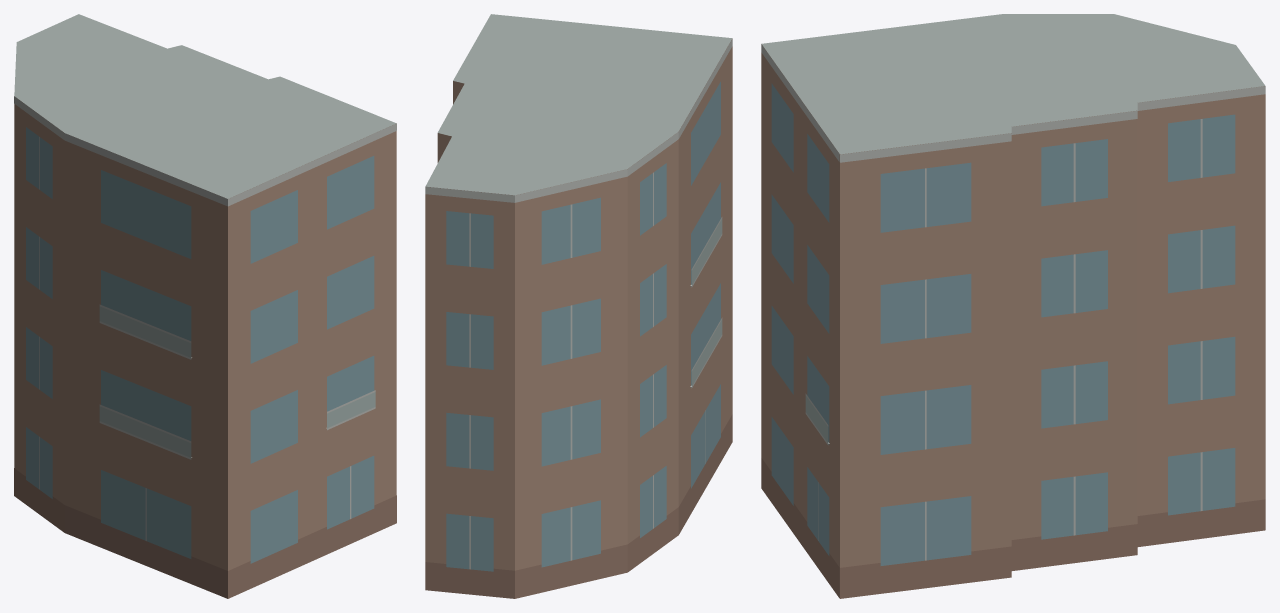
Rendered from survey-upis-32476631.glb.
3 views of the same model, side by side, from view 1: azimuth 30°, elevation 25°; view 2: azimuth 150°, elevation 25°; view 3: azimuth 270°, elevation 25° (orthographic). The views are drawn at different scales.
Parts seen in each view (by area): view 1: survey-upis-32476631.tmp; view 2: survey-upis-32476631.tmp; view 3: survey-upis-32476631.tmp.
Part boxes in pixels (bbox=[...]): survey-upis-32476631.tmp: bbox=[14, 14, 396, 598]; survey-upis-32476631.tmp: bbox=[425, 14, 732, 598]; survey-upis-32476631.tmp: bbox=[761, 14, 1265, 598].
Size of the model in its own units: 8.82 by 13 by 13.38.
